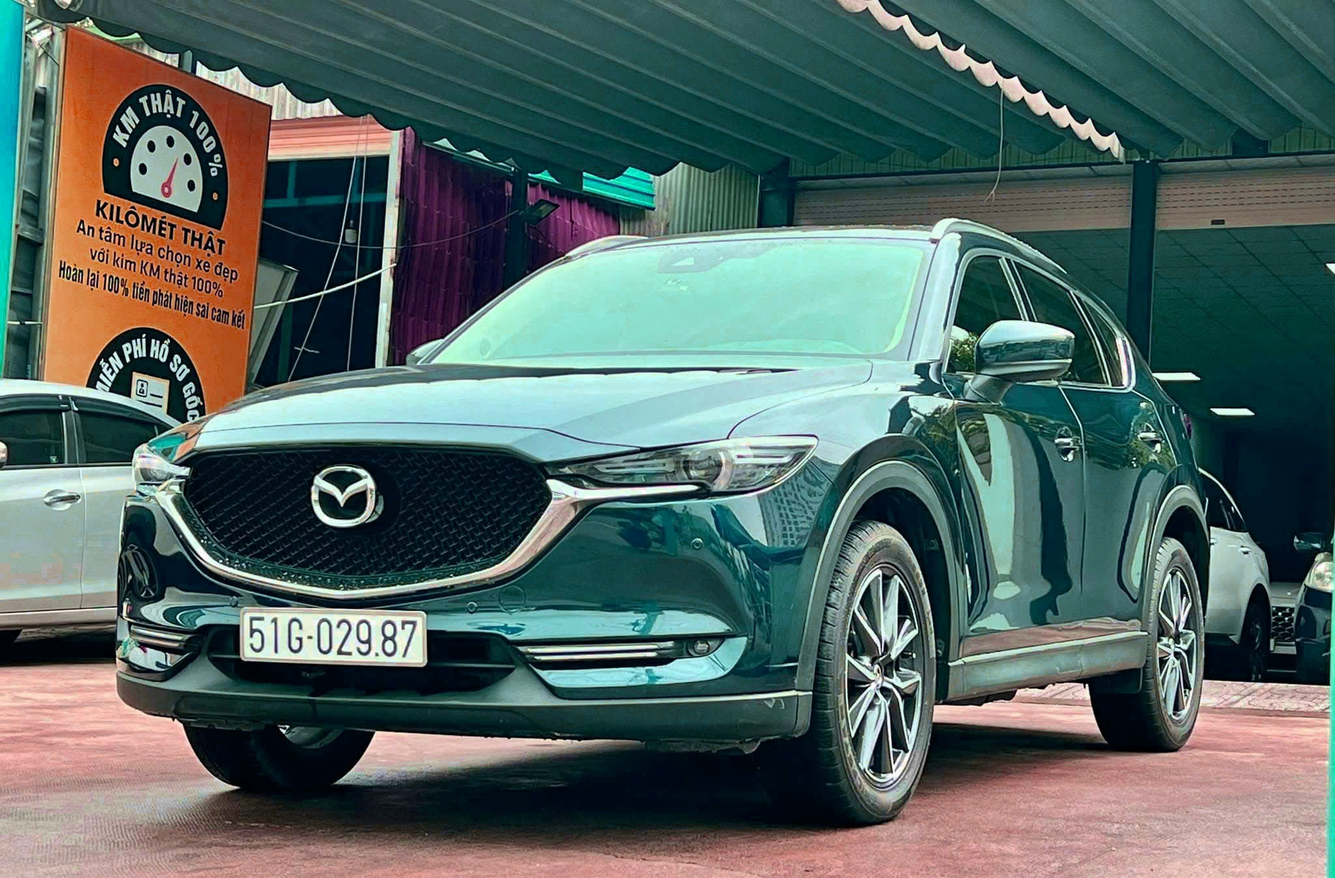Bien-so: (265, 633, 463, 713)
